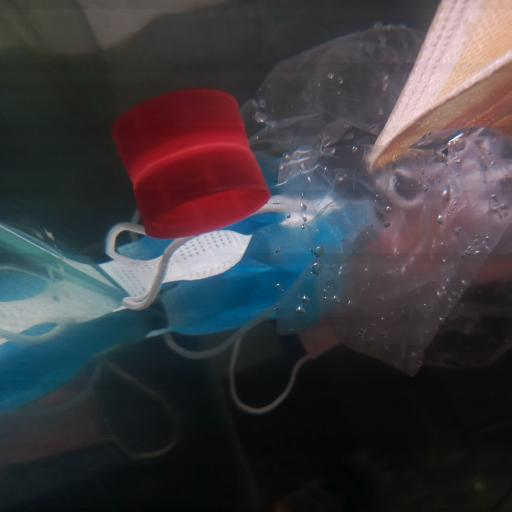bottle_cap: (134, 142, 269, 238)
mask: (105, 219, 365, 358), (363, 0, 512, 178)
plastic_bag: (247, 35, 512, 379)
